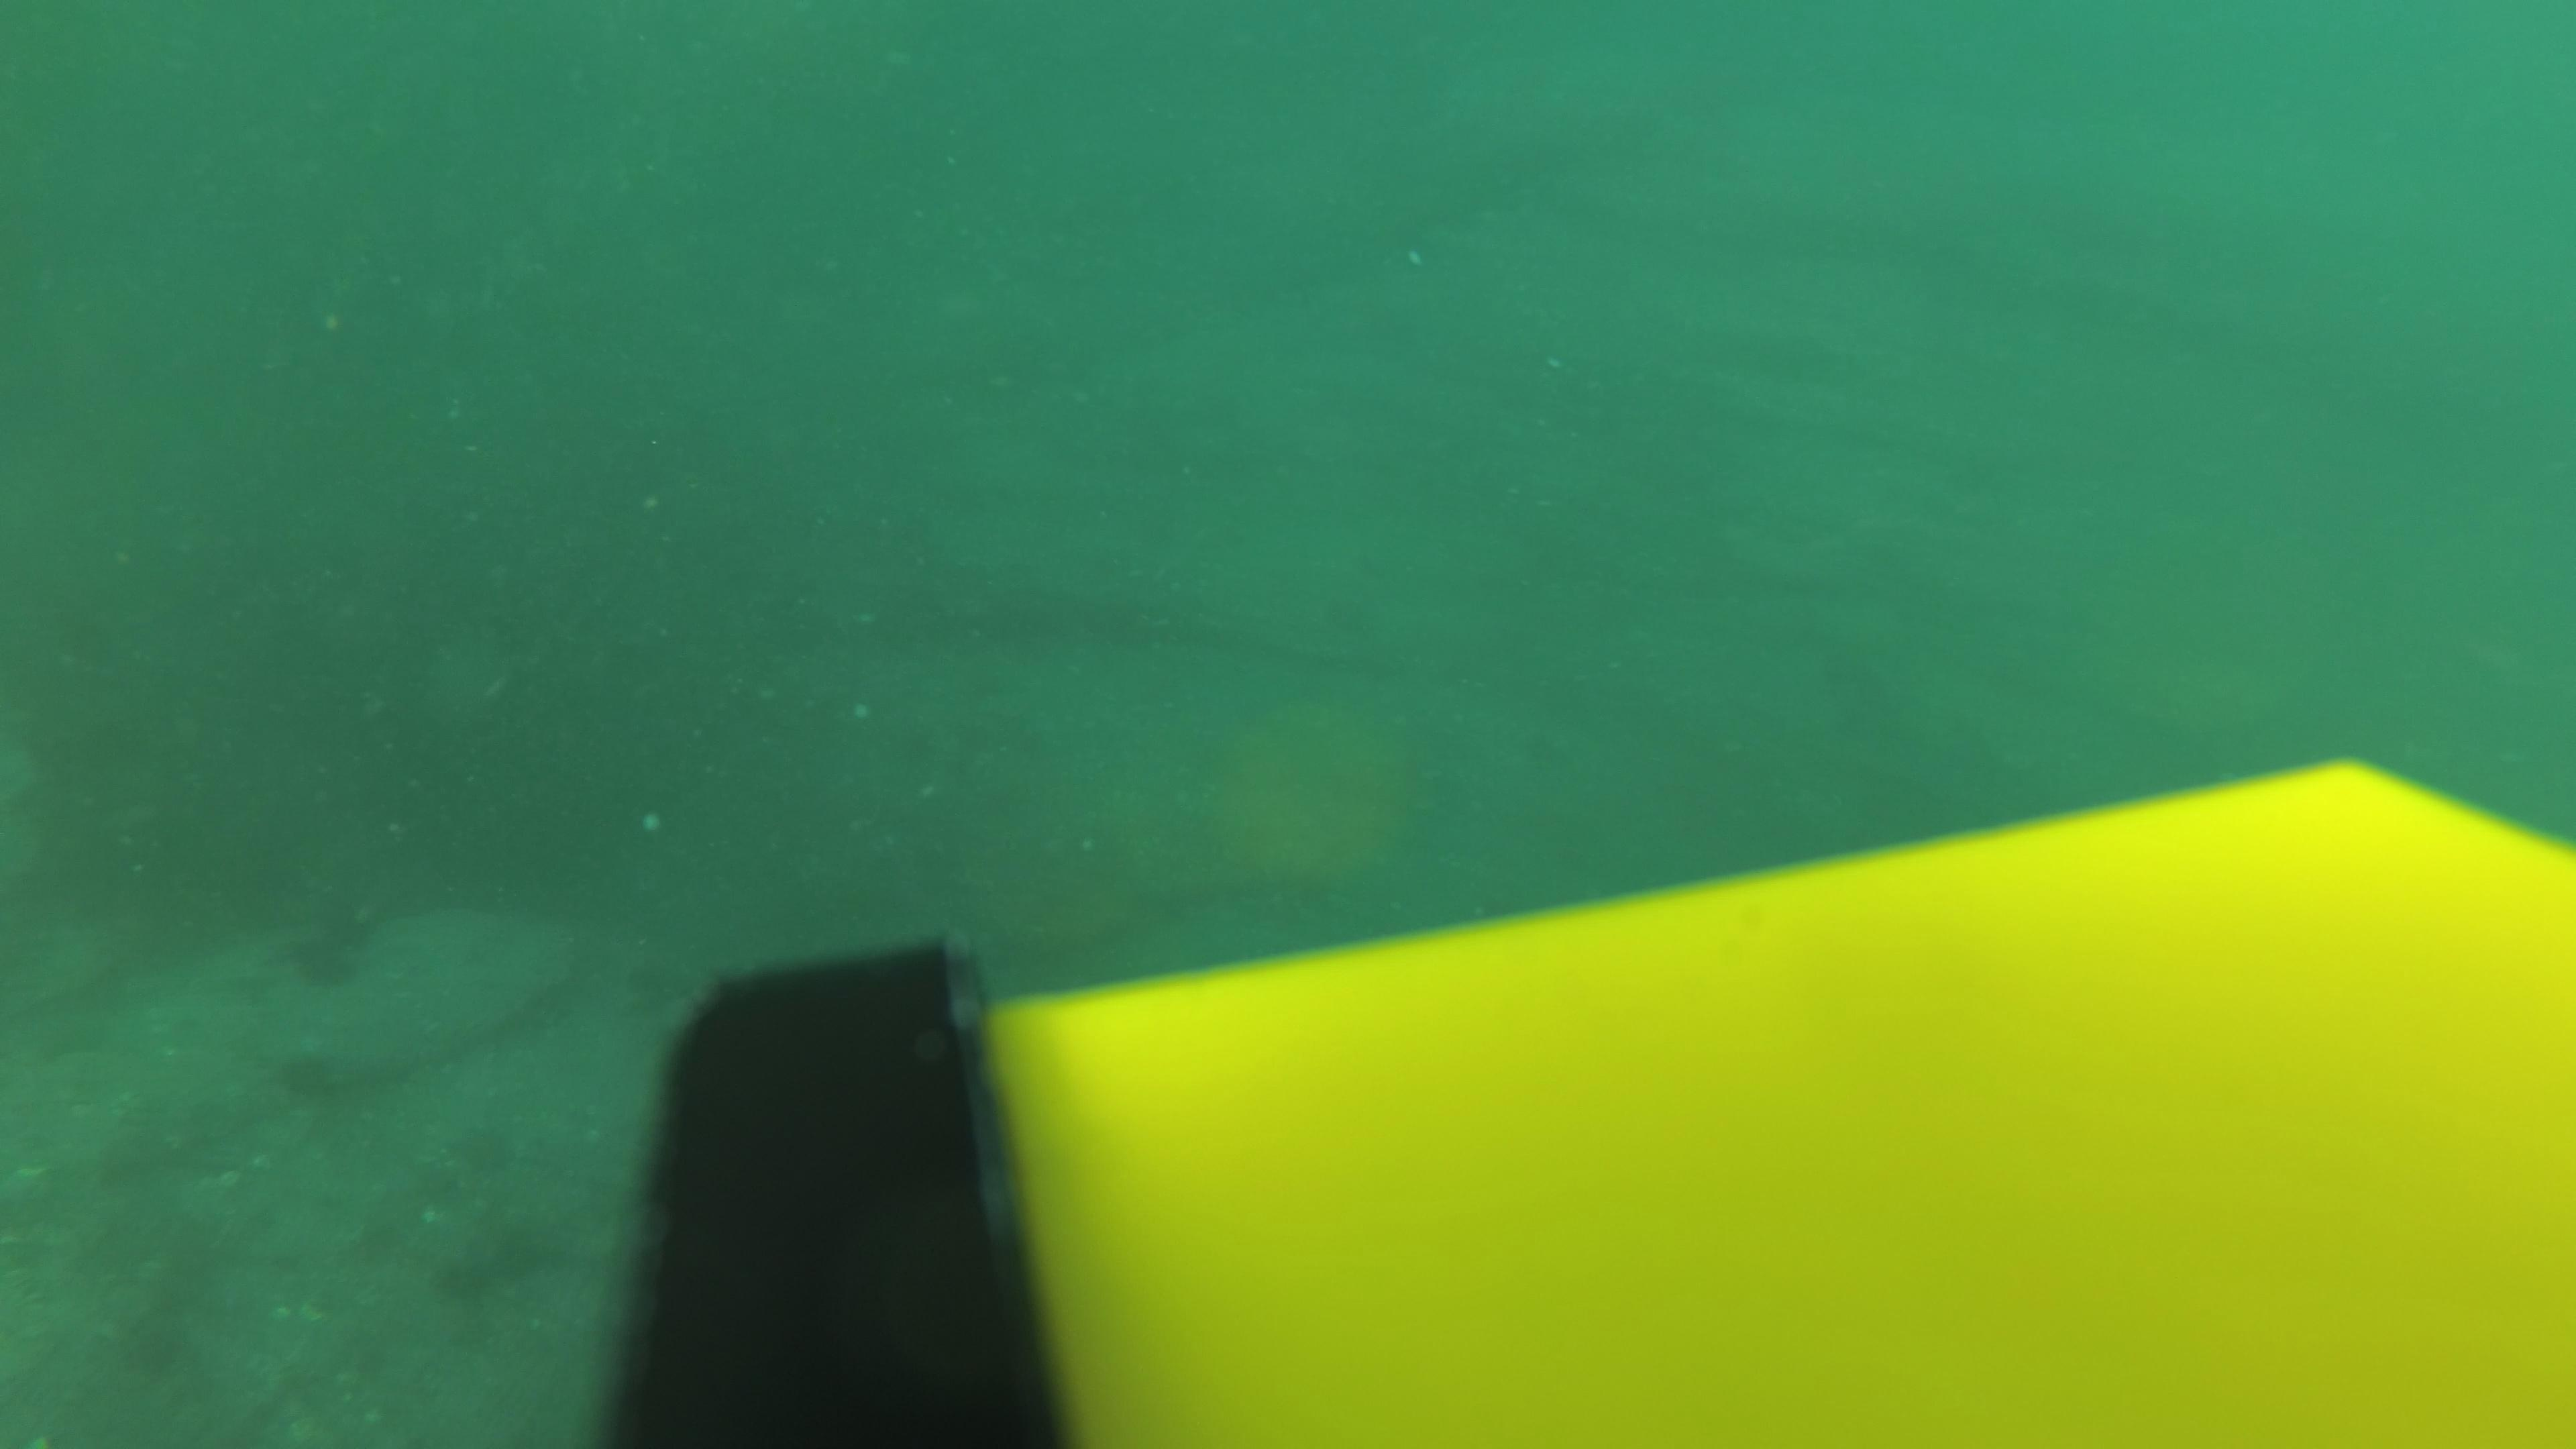echinus: (280, 901, 379, 993), (428, 1237, 510, 1309), (444, 1116, 522, 1185), (272, 1042, 349, 1109)
starfish: (1196, 688, 1433, 885)
